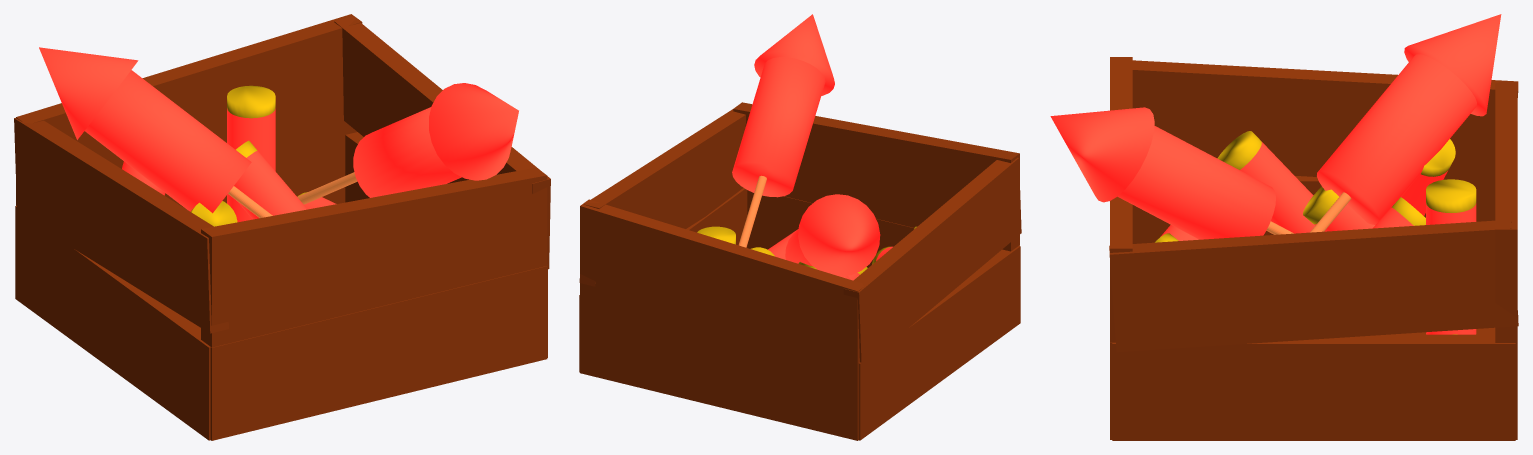
Rendered from trap firecrackers.fbx.
The picture shows the model from 3 angles, left to right: view 1: azimuth 30°, elevation 25°; view 2: azimuth 150°, elevation 25°; view 3: azimuth 270°, elevation 25°; orthographic projection. The views are drawn at different scales.
Parts seen in each view (by area): view 1: Cylinder.005; view 2: Cylinder.005; view 3: Cylinder.005.
Part boxes in pixels (box(x1,y1,x2,y2)): Cylinder.005: box(14, 14, 550, 440); Cylinder.005: box(579, 14, 1021, 440); Cylinder.005: box(1050, 14, 1518, 440).
Size of the model in its own units: 79.1 by 62.62 by 89.99.
